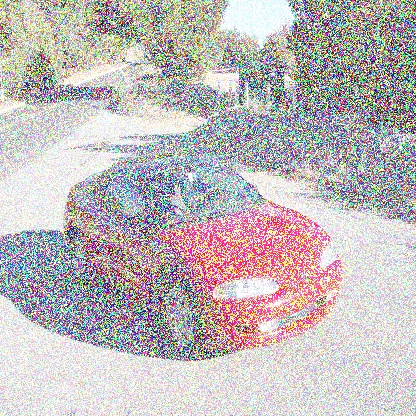Vehicle: (63, 150, 344, 373)
